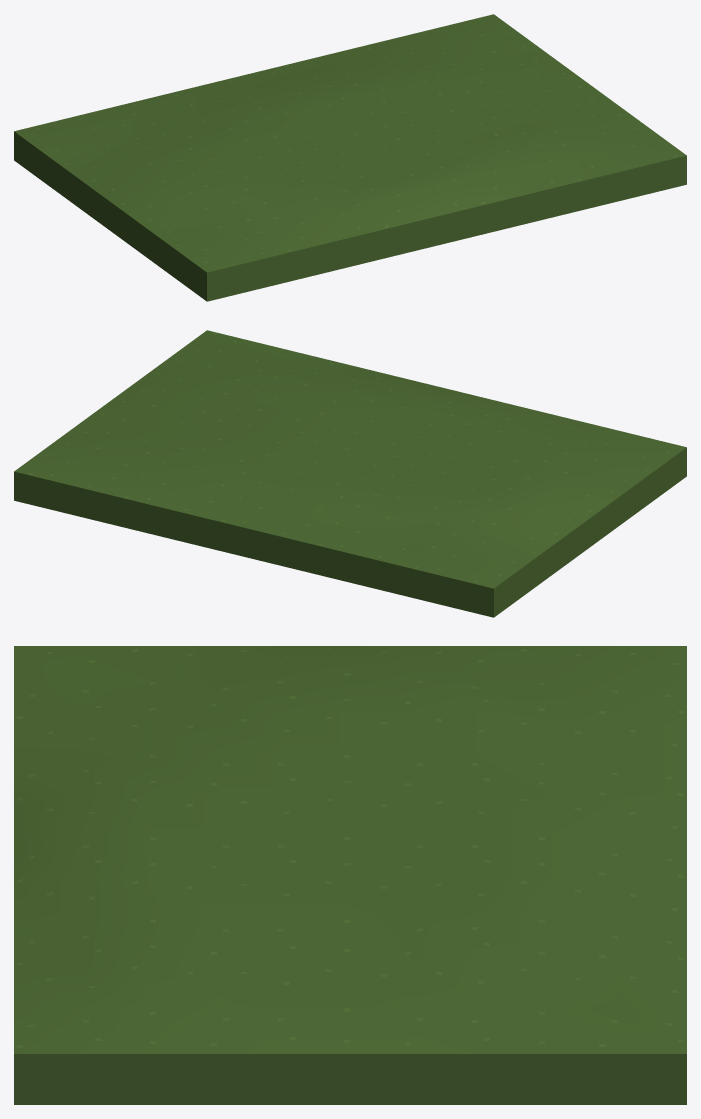
File: Mound Type 2.fbx
3 renders of one model, top to bottom at view 1: azimuth 30°, elevation 25°; view 2: azimuth 150°, elevation 25°; view 3: azimuth 270°, elevation 25°, orthographic. The views are drawn at different scales.
Parts seen in each view (by area): view 1: Mound2; view 2: Mound2; view 3: Mound2.
Boxes of the visible parts, <box> form: Mound2: <box>14,14,686,301</box>; Mound2: <box>14,330,686,617</box>; Mound2: <box>14,646,686,1104</box>.
Bounding box in the file's own units: 8698 × 657 × 6063.
1 material, 1 textured.
